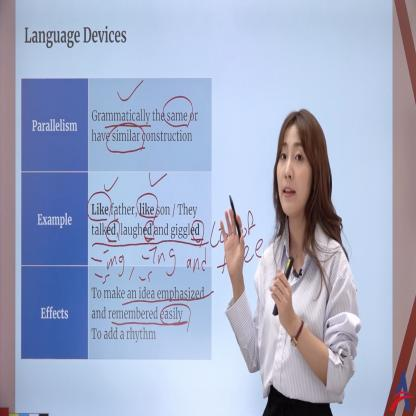streamer: (220, 106, 361, 416)
